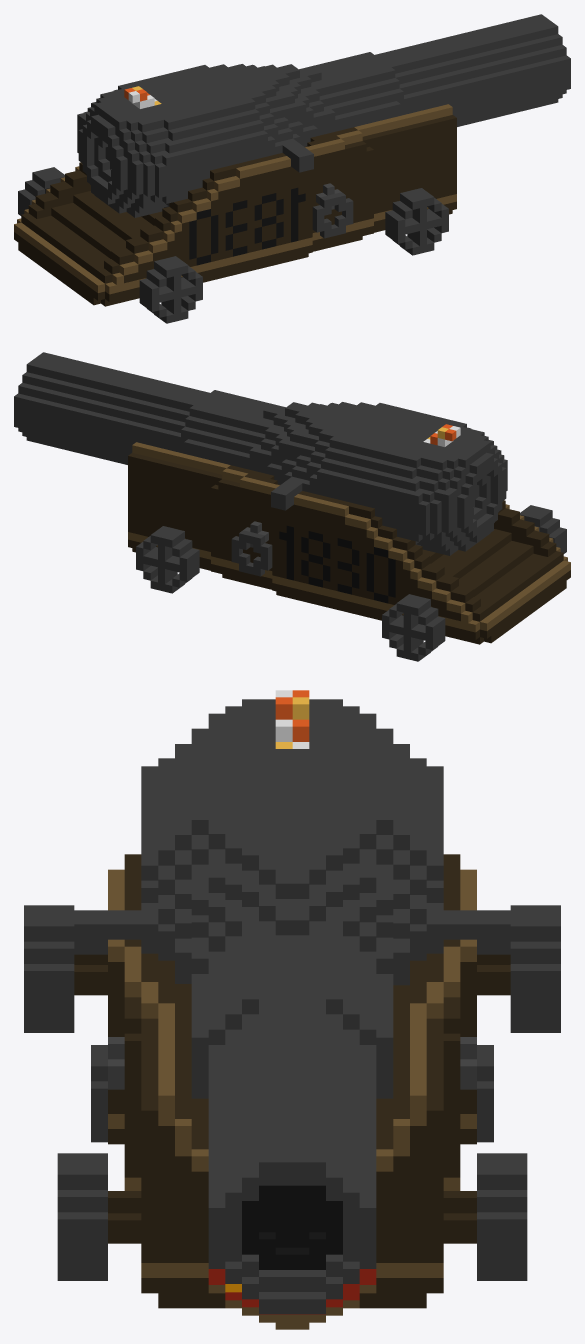
Rendered from cannon cкин 1 1.obj.
The picture shows the model from 3 angles, top to bottom: view 1: azimuth 30°, elevation 25°; view 2: azimuth 150°, elevation 25°; view 3: azimuth 270°, elevation 25°; orthographic projection. The views are drawn at different scales.
Bounding box in the file's own units: 6.8 × 2.3 × 3.2.
Materials: 1 (1 with a texture image).
